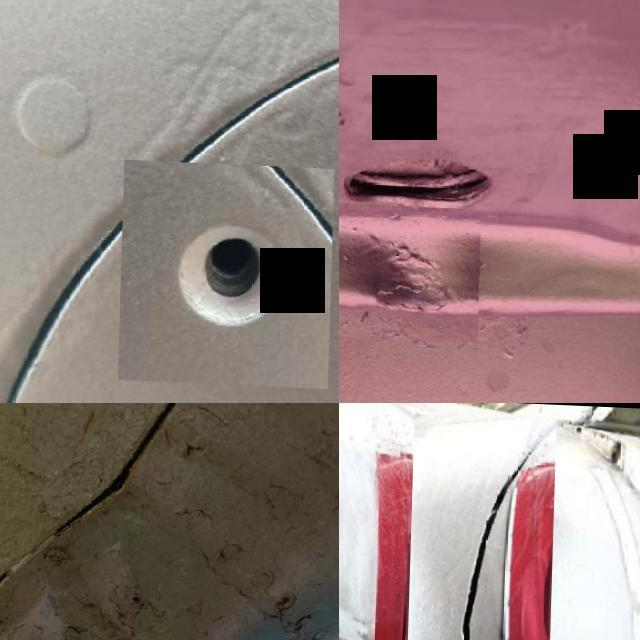Crack: (406, 409, 557, 640)
Dent: (339, 205, 482, 338), (0, 556, 183, 640)
Missing_Fastener: (120, 159, 336, 386)
